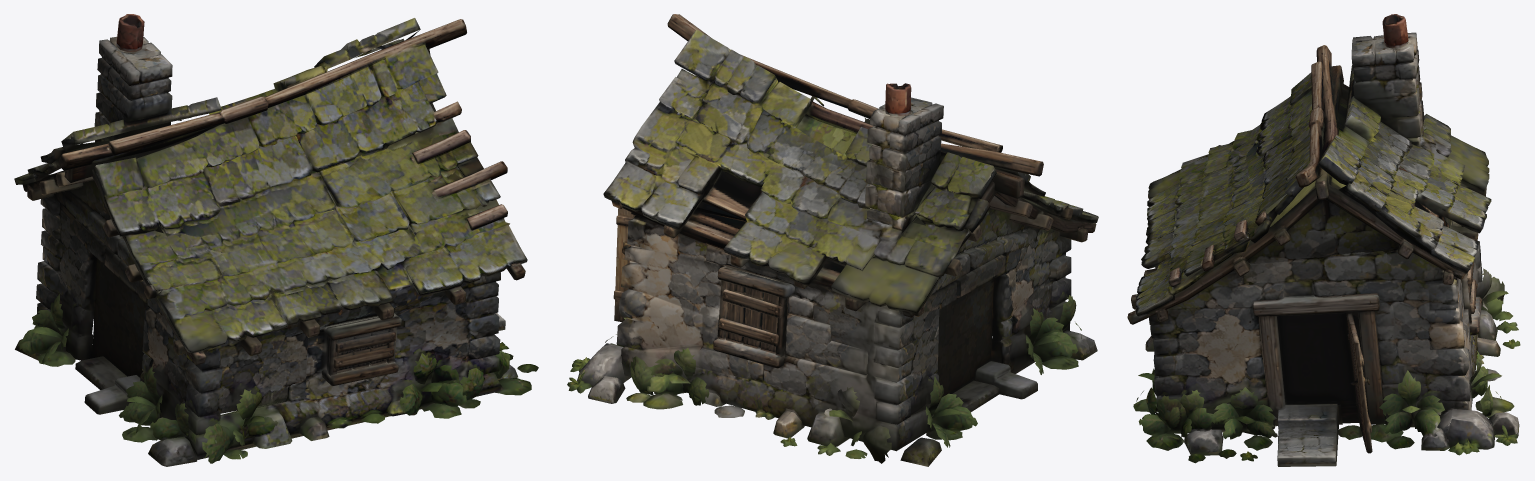
The model's file is act1_kit_v1_farmhouse.glb.
3 renders of one model, left to right at view 1: azimuth 30°, elevation 25°; view 2: azimuth 150°, elevation 25°; view 3: azimuth 270°, elevation 25°, orthographic. The views are drawn at different scales.
Parts seen in each view (by area): view 1: act1_kit_v1_farmhouse; view 2: act1_kit_v1_farmhouse; view 3: act1_kit_v1_farmhouse.
Boxes of the visible parts, bbox=[...] form: act1_kit_v1_farmhouse: bbox=[14, 14, 538, 466]; act1_kit_v1_farmhouse: bbox=[567, 14, 1098, 466]; act1_kit_v1_farmhouse: bbox=[1127, 14, 1520, 466].
Size of the model in its own units: 1 by 0.7832 by 0.884.
1 material, 1 textured.
